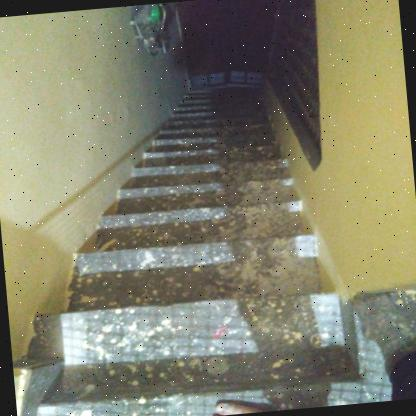stair: (40, 69, 331, 416)
